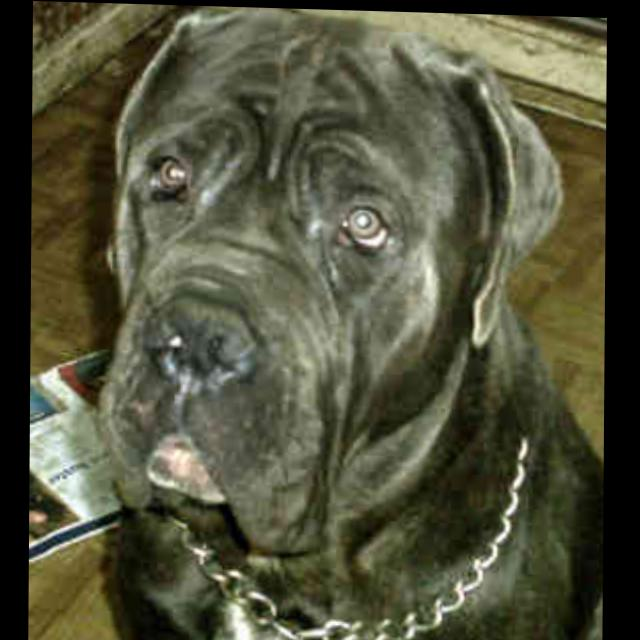mastino_napoletano: (94, 3, 609, 640)
